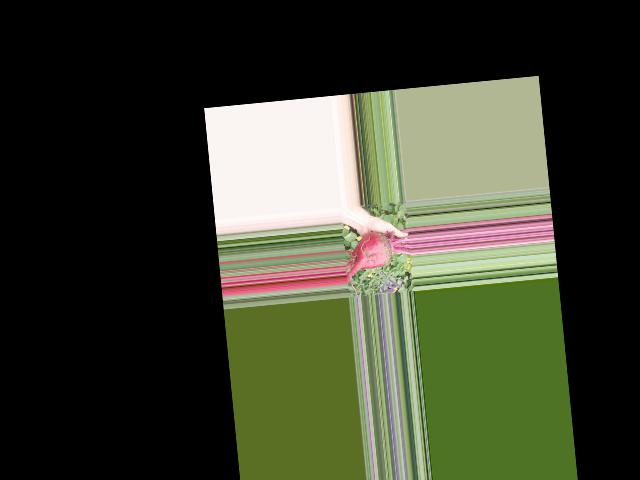beet: (342, 228, 413, 283)
